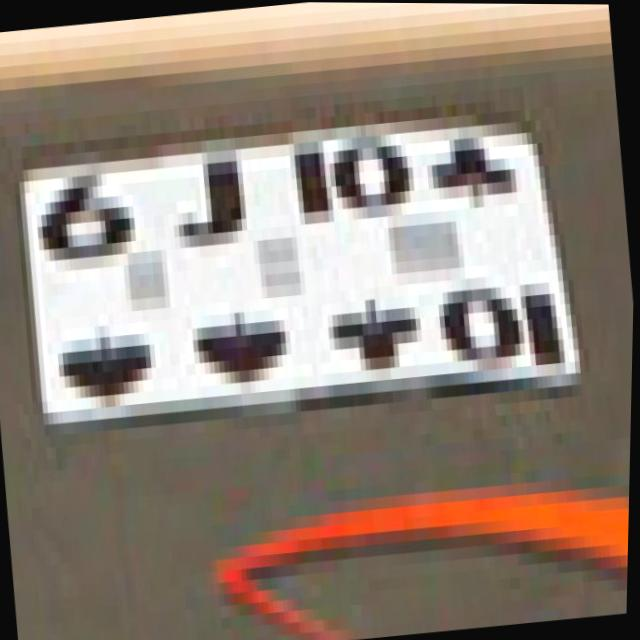Card-10: (289, 128, 578, 389)
Card-6: (23, 162, 183, 417)
Card-J: (160, 145, 313, 408)
